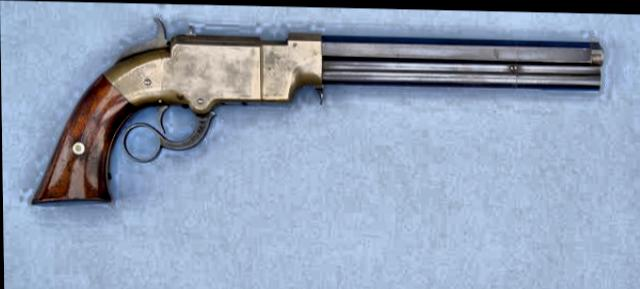pistol: (26, 9, 604, 216)
